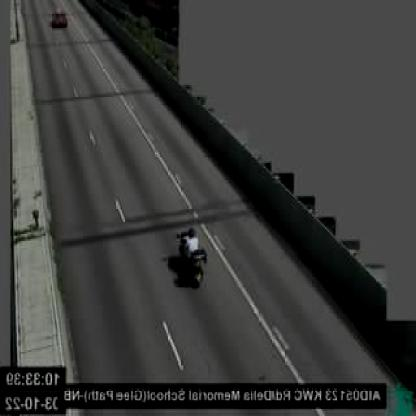Car: (51, 7, 70, 26)
